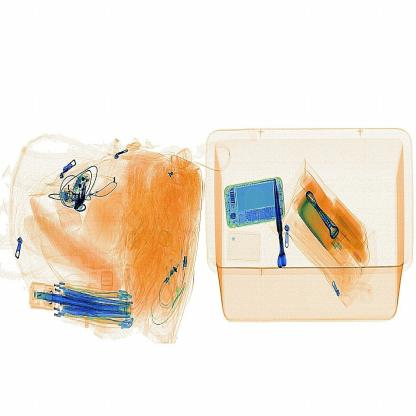gun: (264, 172, 297, 280)
